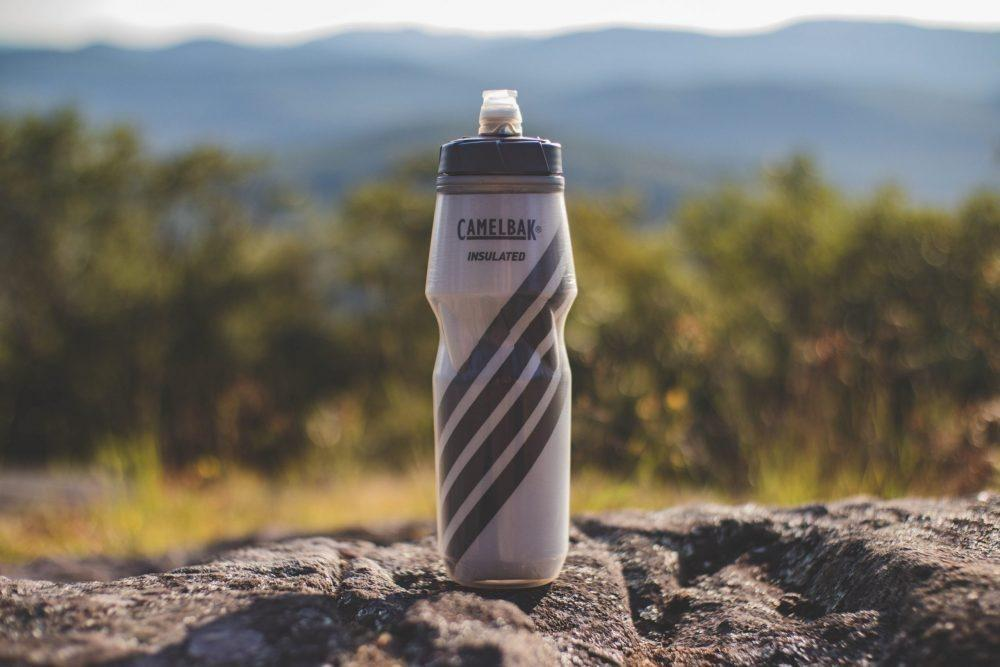gym bottle: (422, 84, 577, 595)
